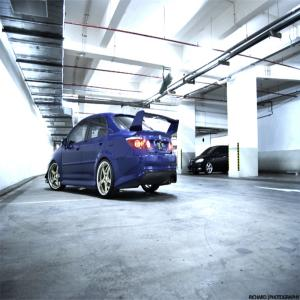Vehicle-registration-plate: (155, 142, 166, 149)
